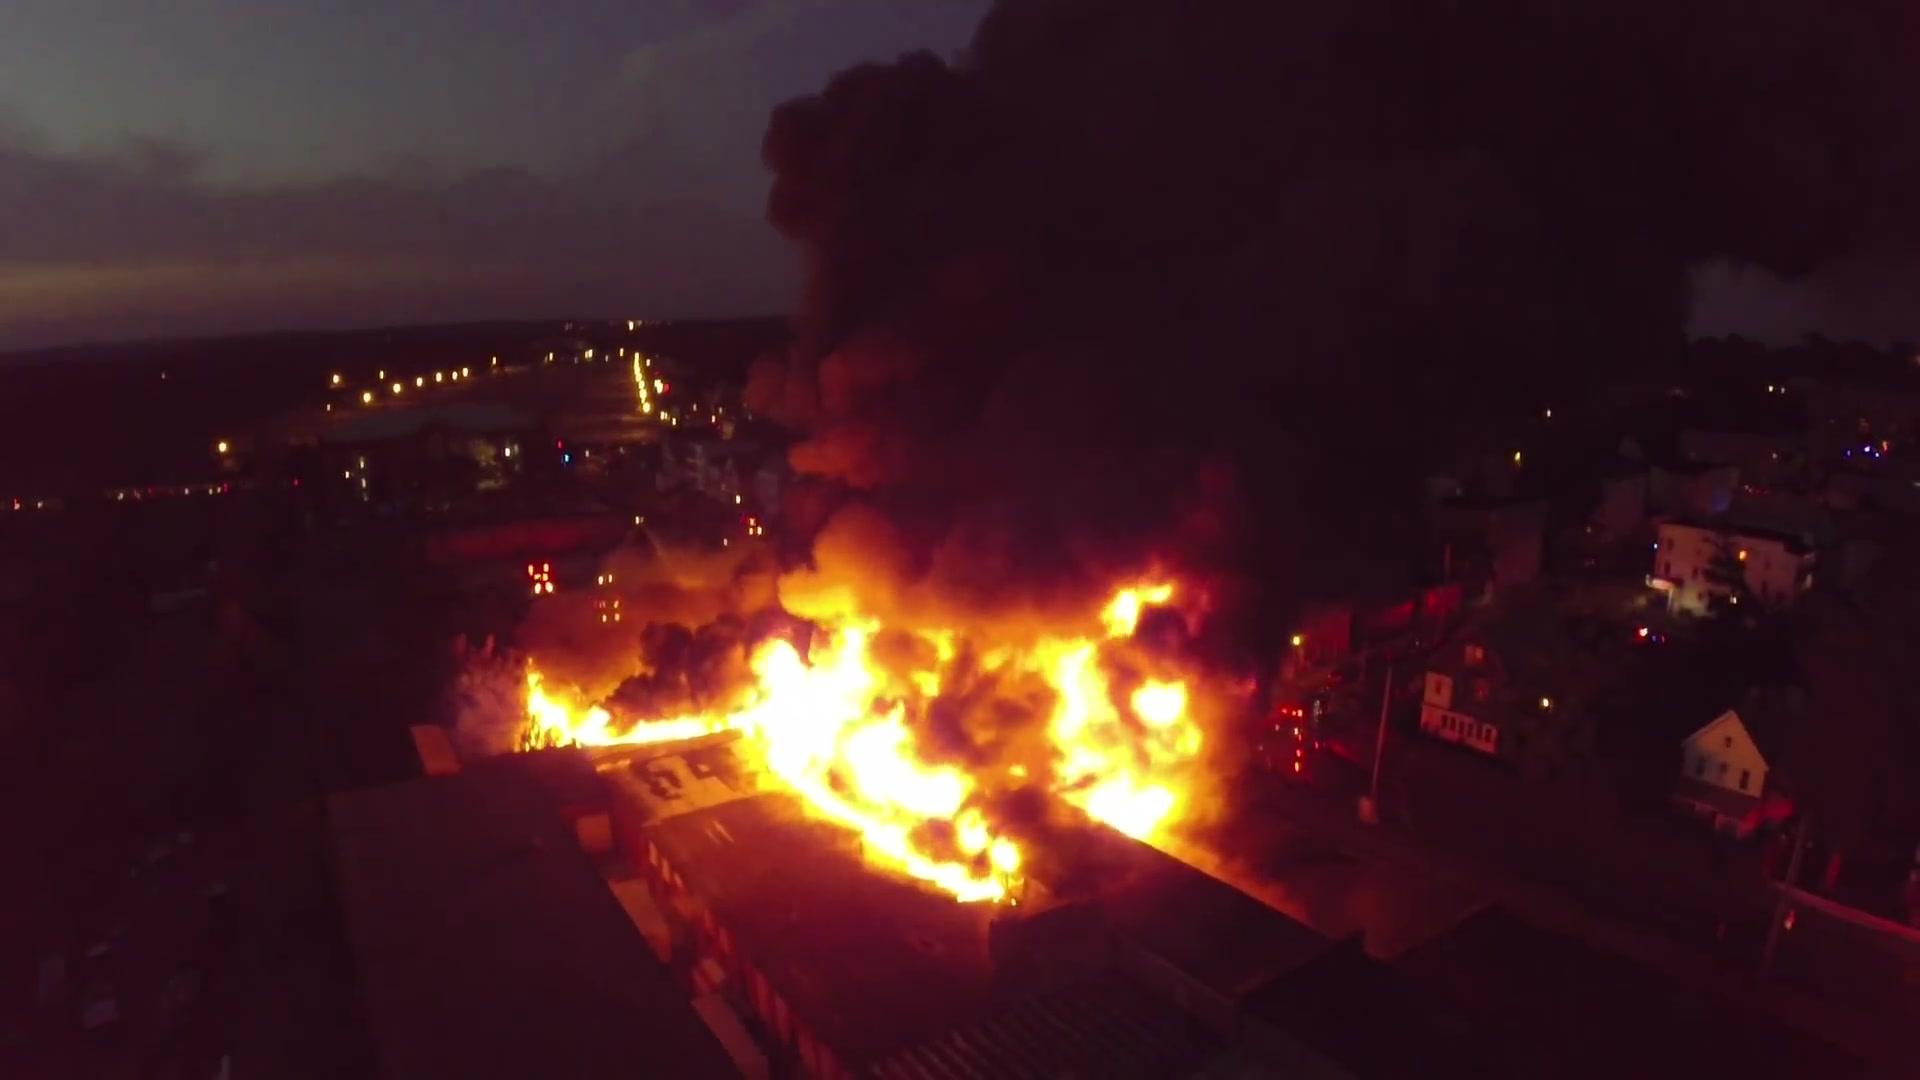fire: (760, 558, 1230, 928)
